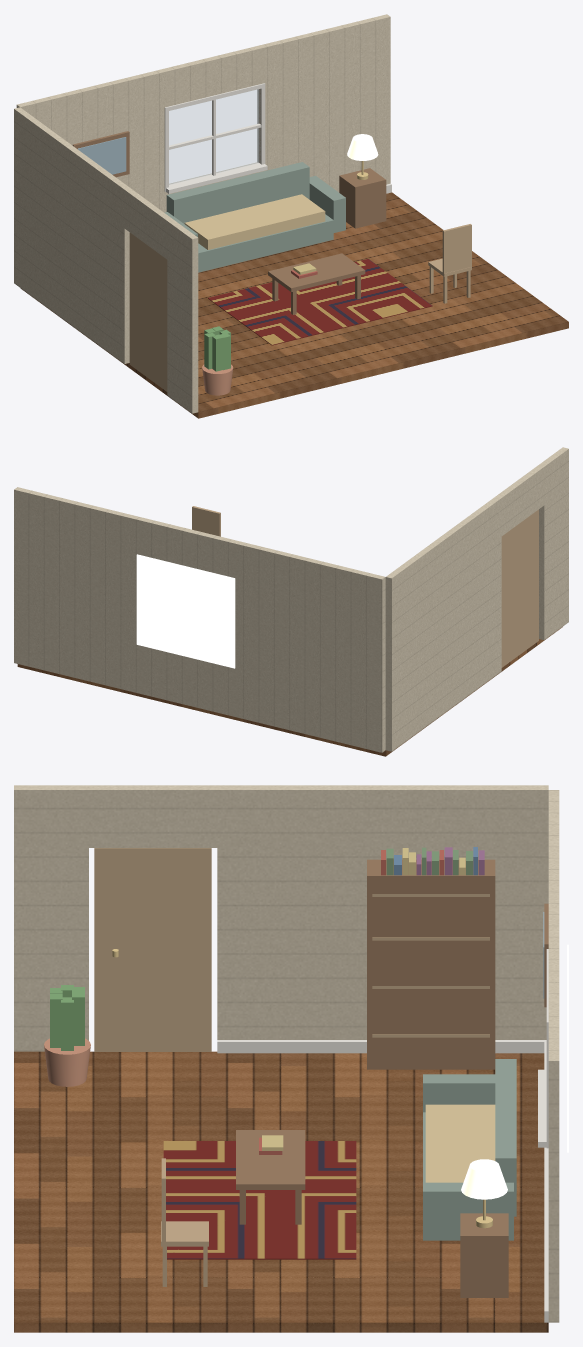
File: demo-room.glb
3 views of the same model, one above another, from view 1: azimuth 30°, elevation 25°; view 2: azimuth 150°, elevation 25°; view 3: azimuth 270°, elevation 25° (orthographic). The views are drawn at different scales.
Parts seen in each view (by area): view 1: DemoRoom; view 2: DemoRoom; view 3: DemoRoom.
Boxes of the visible parts, box(x1,y1,x2,y2) form: DemoRoom: box(14, 14, 568, 418); DemoRoom: box(14, 447, 568, 756); DemoRoom: box(14, 785, 568, 1332).
Size of the model in its own units: 6.1 by 2.8 by 5.19.
Materials: 20 (3 with a texture image).
